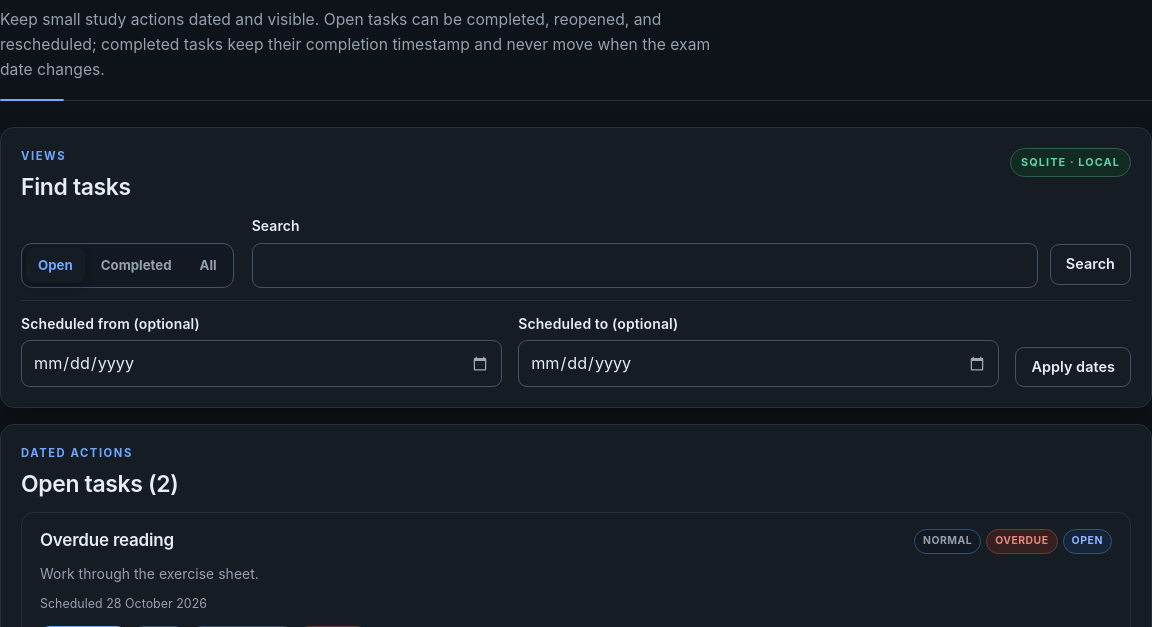
Test case: checklist screen › renders overdue, upcoming, syllabus, and completed task details
This screenshot has width=1152, height=627.
expect the heading "Overdue reading" is shown: met, box [40,529,174,552]
expect the text "Overdue" is shown: met, box [986,529,1058,554]
Click the button "All".
click(208, 265)  # box [188,248,229,283]
(page scrolled)
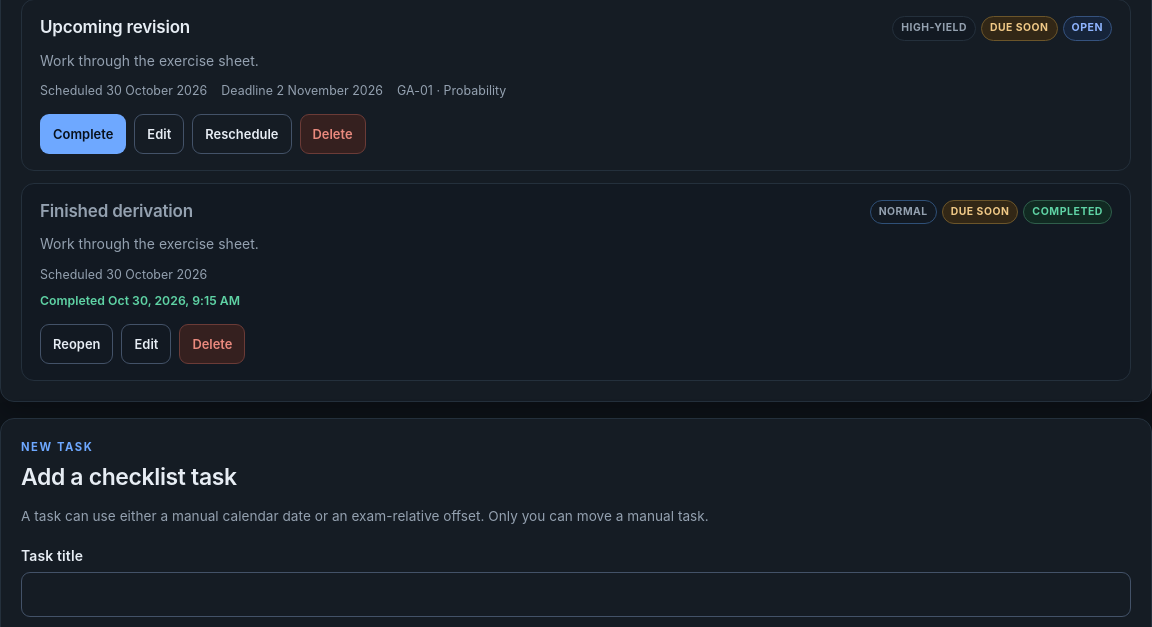
expect the heading "Finished derivation" is shown: met, box [40,200,193,222]
expect the text "Completed" is shown: met, box [1023,200,1112,224]
expect the text "Completed Oct 30, 2026, 9:15 AM" is shown: met, box [40,293,240,308]
